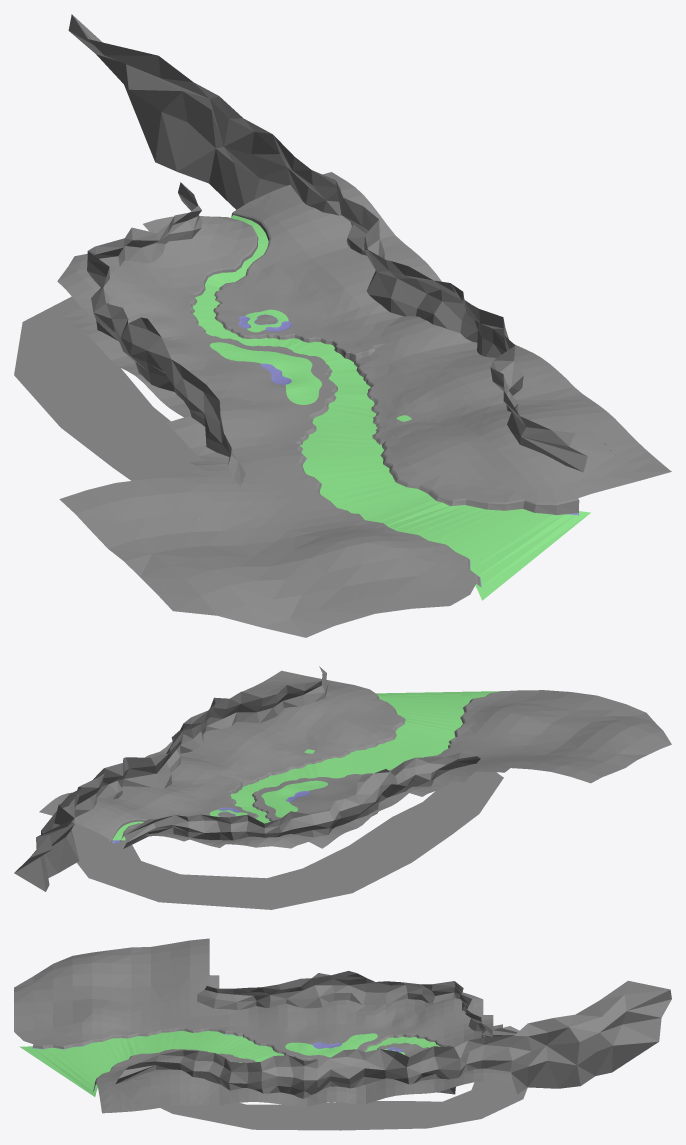
The model's file is glf_course_fc16.glb.
3 renders of one model, top to bottom at view 1: azimuth 30°, elevation 25°; view 2: azimuth 150°, elevation 25°; view 3: azimuth 270°, elevation 25°, orthographic. The views are drawn at different scales.
Parts seen in each view (by area): view 1: collision_0x0004, collision_0x000c, collision_0x0007, collision_0x0005, collision_0x0002, collision_0x0001; view 2: collision_0x0004, collision_0x000c, collision_0x0005, collision_0x0007, collision_0x0002, collision_0x0001; view 3: collision_0x0004, collision_0x000c, collision_0x0005, collision_0x0007, collision_0x0002, collision_0x0001.
Boxes of the visible parts, box(x1,y1,x2,y2) form: collision_0x0004: box(57, 172, 671, 637); collision_0x000c: box(68, 14, 587, 586); collision_0x0007: box(192, 215, 590, 600); collision_0x0005: box(14, 296, 205, 480); collision_0x0002: box(152, 287, 446, 442); collision_0x0001: box(209, 309, 411, 421); collision_0x0004: box(39, 670, 671, 848); collision_0x000c: box(14, 666, 490, 891); collision_0x0005: box(71, 771, 503, 909); collision_0x0007: box(109, 691, 502, 840); collision_0x0002: box(179, 736, 372, 820); collision_0x0001: box(209, 749, 327, 817); collision_0x0004: box(14, 938, 511, 1113); collision_0x000c: box(32, 971, 671, 1098); collision_0x0005: box(161, 1077, 527, 1130); collision_0x0007: box(19, 1031, 440, 1096); collision_0x0002: box(218, 1018, 429, 1062); collision_0x0001: box(238, 1033, 404, 1062).
Size of the model in its own units: 7825 by 2249 by 13457.
